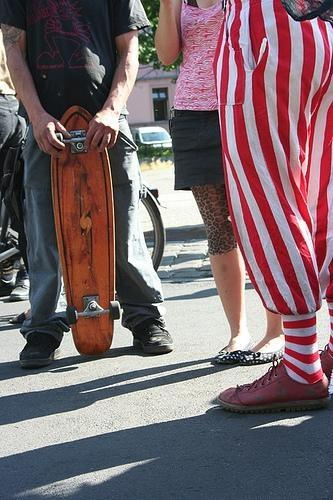bicycle: (139, 182, 167, 274)
car: (131, 126, 173, 148)
